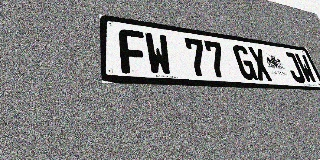7: (183, 37, 211, 78), (202, 40, 230, 79)
F: (118, 28, 148, 75)
G: (231, 44, 258, 80)
J: (282, 51, 307, 83)
W: (144, 32, 173, 76), (294, 53, 318, 84)
X: (247, 47, 273, 81)
